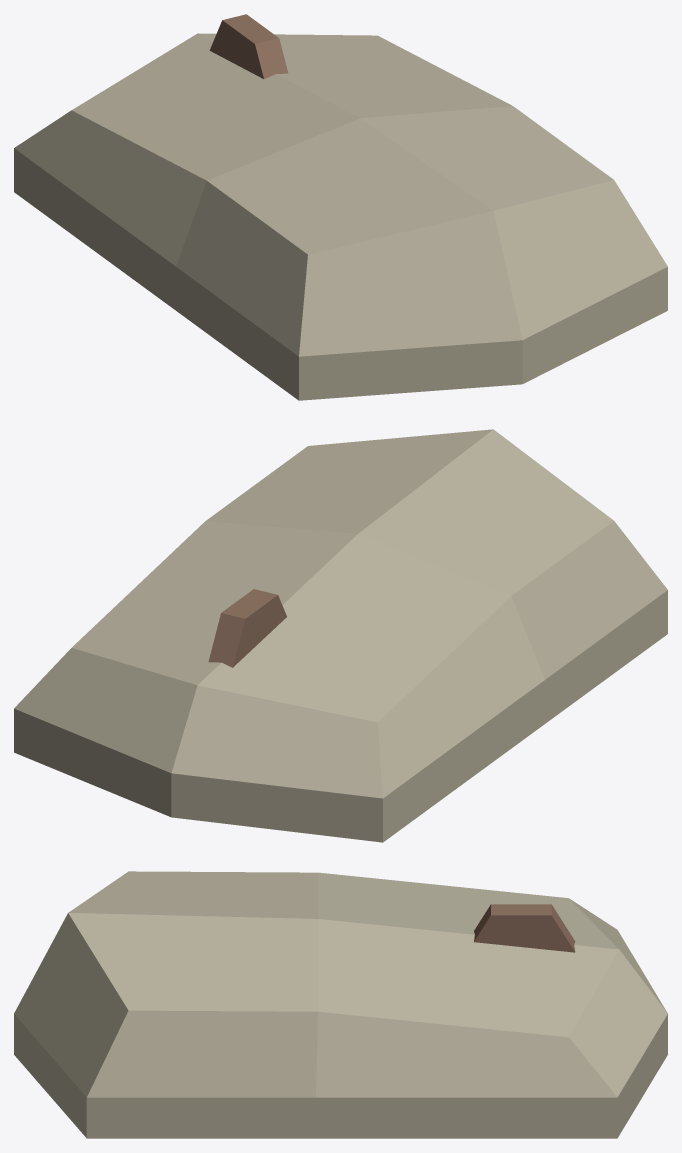
File: Computer-Mouse-Wireless.fbx
The picture shows the model from 3 angles, top to bottom: view 1: azimuth 30°, elevation 25°; view 2: azimuth 150°, elevation 25°; view 3: azimuth 270°, elevation 25°; orthographic projection. The views are drawn at different scales.
Visible parts, largest first — view 1: Wireless_mouse; view 2: Wireless_mouse; view 3: Wireless_mouse.
Part boxes in pixels (<box>): Wireless_mouse: <box>14,14,667,400</box>; Wireless_mouse: <box>14,429,667,842</box>; Wireless_mouse: <box>14,871,667,1138</box>.
Size of the model in its own units: 0.0812 by 0.0327 by 0.1338.
